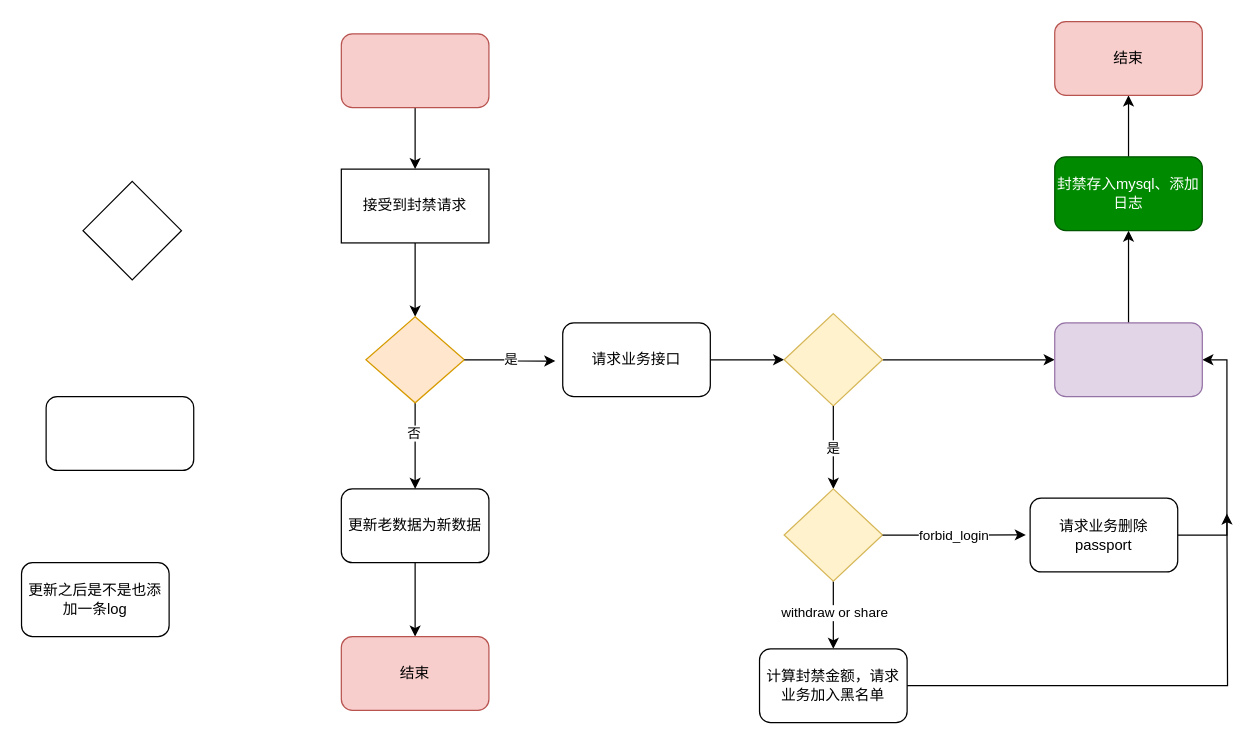
Image size: 1260x744. Some labels were removed from this diagram. Here are the shapes that lost their labels. From the top down, the centre of each, then its label:
pixel 414 70: 开始
pixel 414 359: 是否全新数据
pixel 833 359: 是否站长
pixel 1127 359: 存入redis
pixel 833 534: 场景判断
